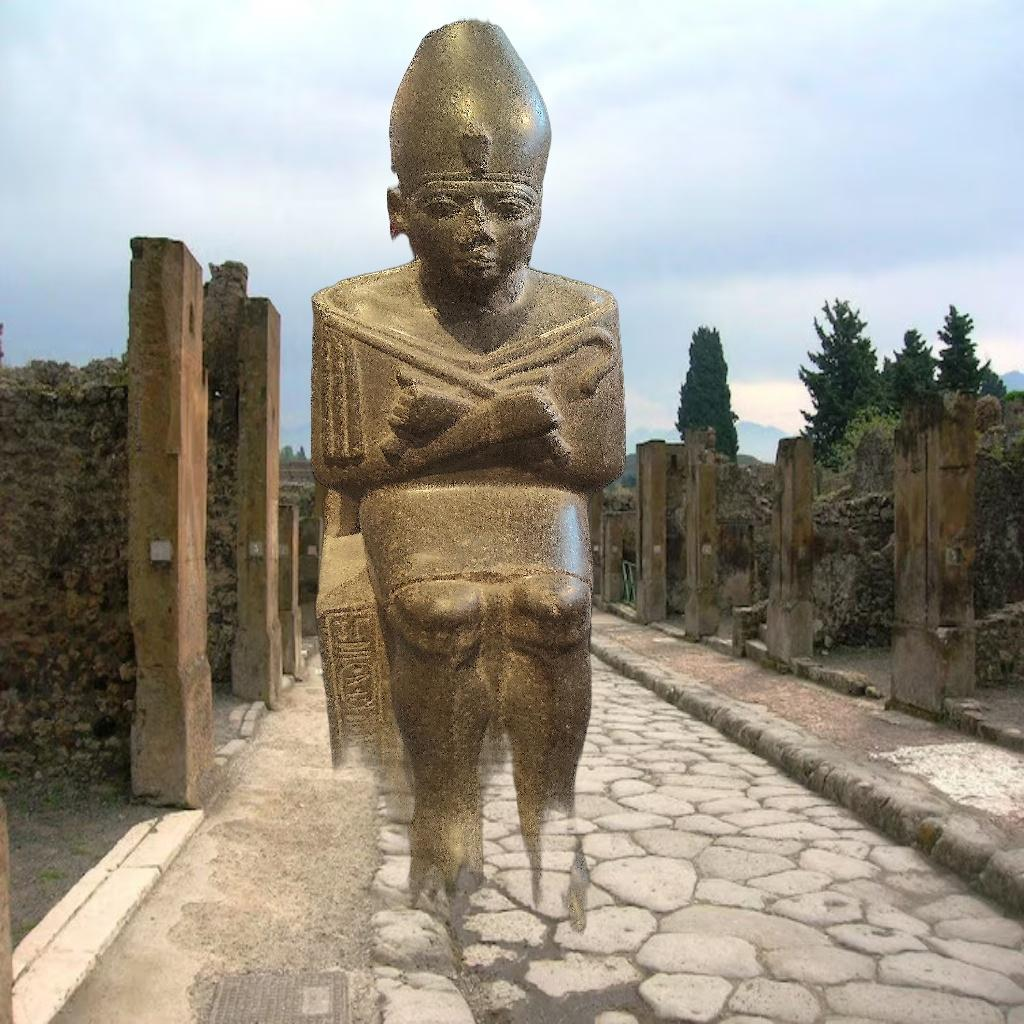Statue of Sobekhotep V: (308, 16, 642, 1013)
